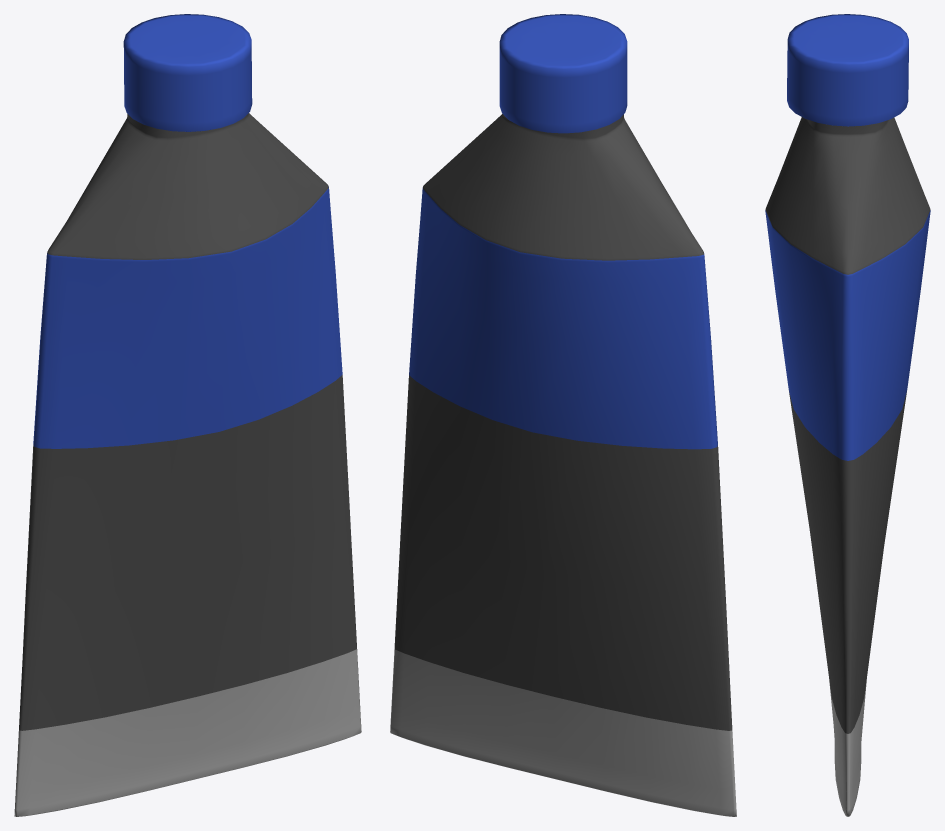
Rendered from pintur_azul.fbx.
3 renders of one model, left to right at view 1: azimuth 30°, elevation 25°; view 2: azimuth 150°, elevation 25°; view 3: azimuth 270°, elevation 25°, orthographic. The views are drawn at different scales.
Parts seen in each view (by area): view 1: pCylinder3; view 2: pCylinder3; view 3: pCylinder3.
Part boxes in pixels (x1,y1,x2,y2): pCylinder3: (14,14,361,816); pCylinder3: (390,14,736,816); pCylinder3: (765,14,930,816).
Bounding box in the file's own units: 2.26 × 4.58 × 0.9792.
